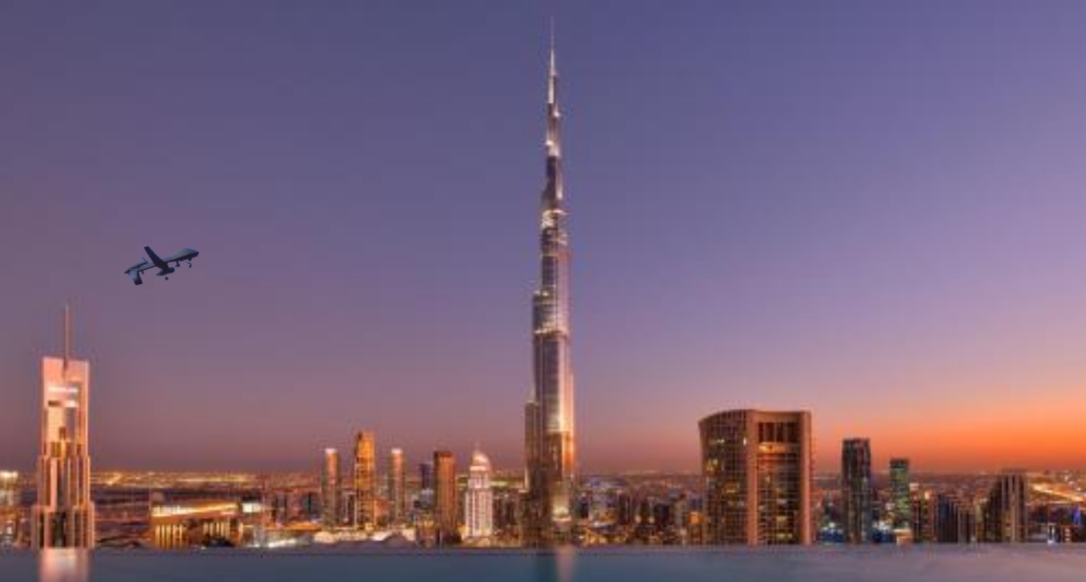military drone: (123, 244, 199, 285)
